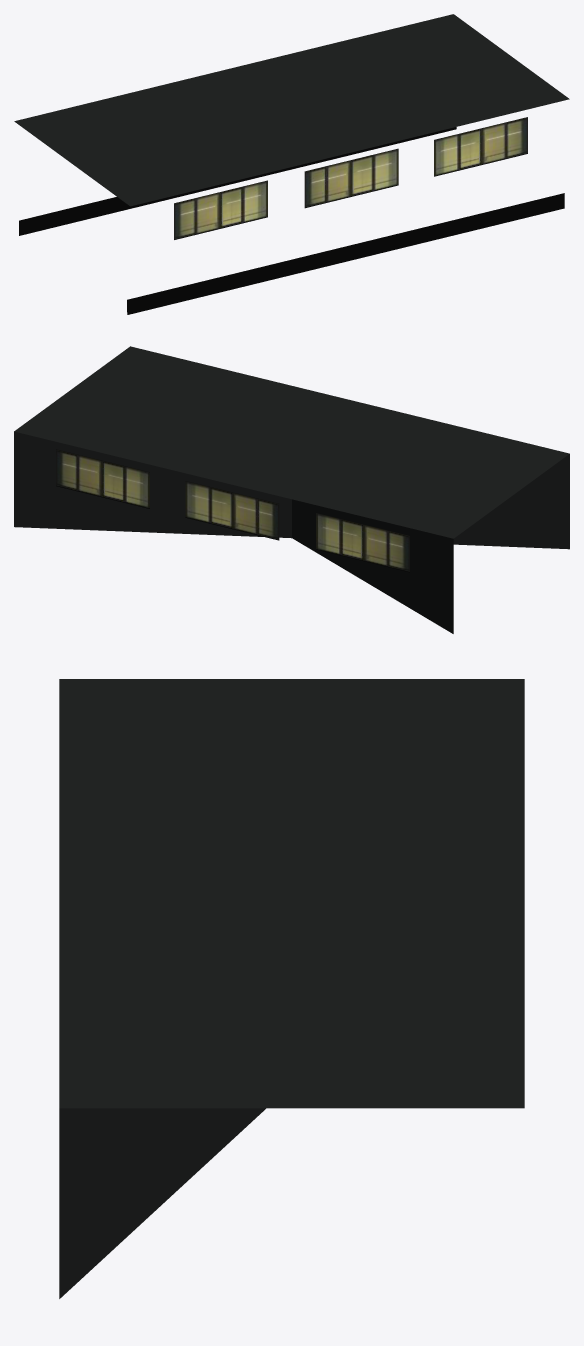
File: AMB_STUP_D4_00.glb
The picture shows the model from 3 angles, top to bottom: view 1: azimuth 30°, elevation 25°; view 2: azimuth 150°, elevation 25°; view 3: azimuth 270°, elevation 25°; orthographic projection. The views are drawn at different scales.
Parts seen in each view (by area): view 1: BASE; view 2: BASE; view 3: BASE.
Part boxes in pixels (bbox=[...]): BASE: bbox=[14, 14, 569, 314]; BASE: bbox=[14, 346, 569, 633]; BASE: bbox=[59, 679, 524, 1298].
Bounding box in the file's own units: 81.81 × 19.96 × 38.05.
3 materials, 3 textured.
